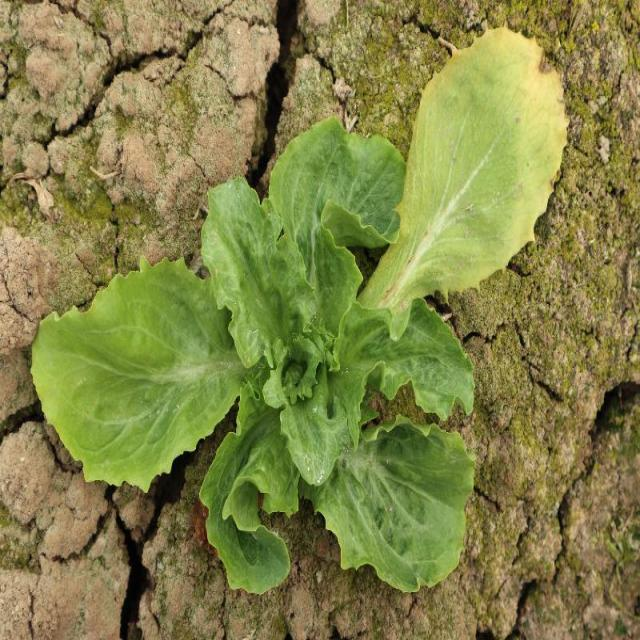crop: (28, 24, 571, 597)
